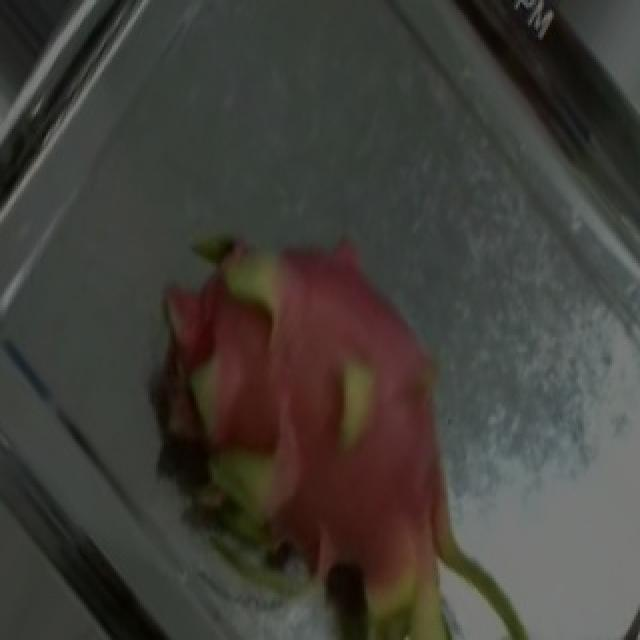fruit: (68, 168, 518, 640)
